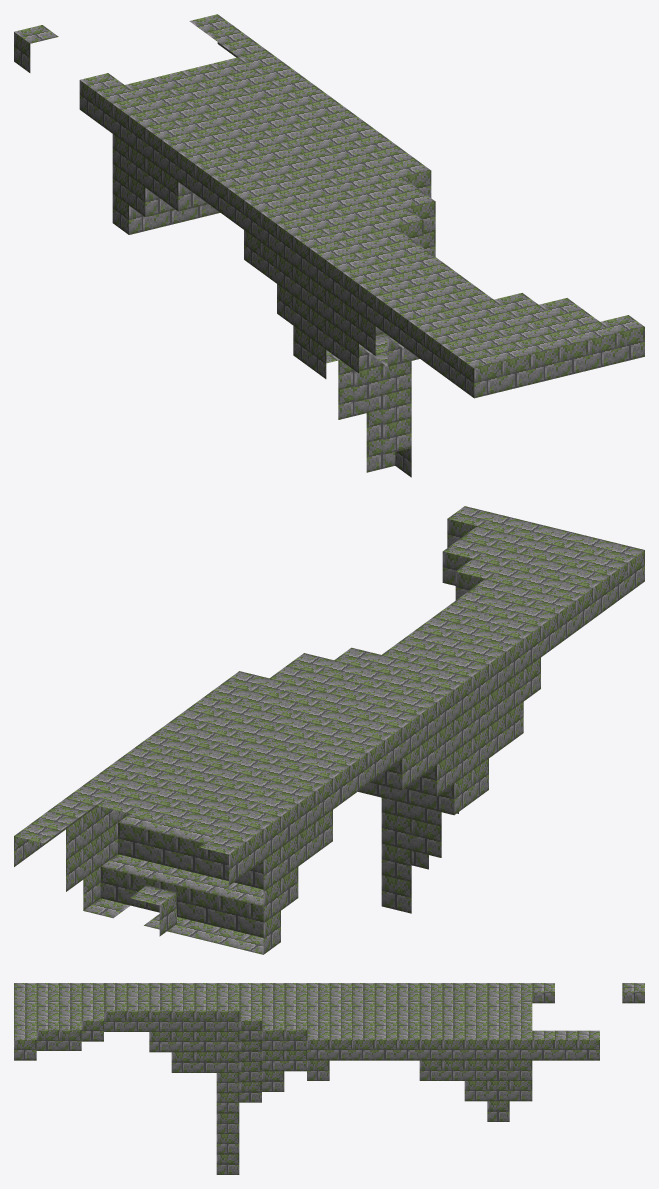
Rendered from Mossy_Stone_Bricks.fbx.
The picture shows the model from 3 angles, top to bottom: view 1: azimuth 30°, elevation 25°; view 2: azimuth 150°, elevation 25°; view 3: azimuth 270°, elevation 25°; orthographic projection. The views are drawn at different scales.
Parts seen in each view (by area): view 1: Mossy_Stone_Bricks; view 2: Mossy_Stone_Bricks; view 3: Mossy_Stone_Bricks.
Part boxes in pixels (left/top/right/bottom): Mossy_Stone_Bricks: left=14, top=14, right=644, bottom=477; Mossy_Stone_Bricks: left=14, top=506, right=644, bottom=954; Mossy_Stone_Bricks: left=14, top=983, right=644, bottom=1174.
Size of the model in its own units: 600 by 800 by 2800.
1 material, 1 textured.
